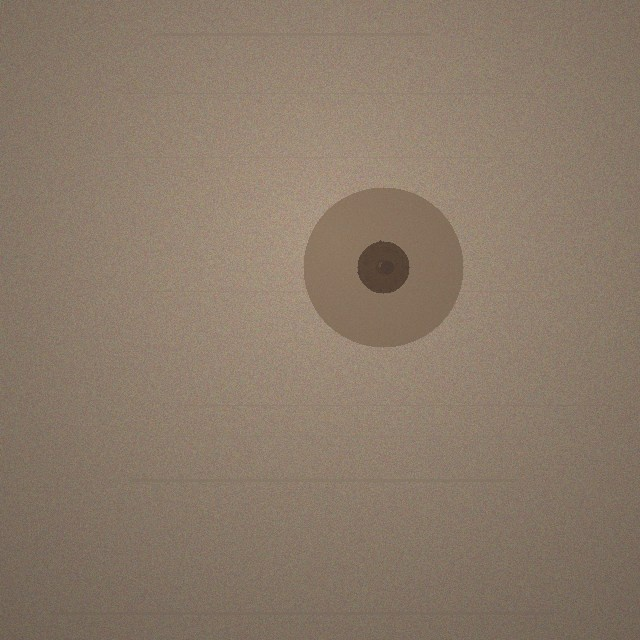cold_weld: (303, 187, 463, 347)
